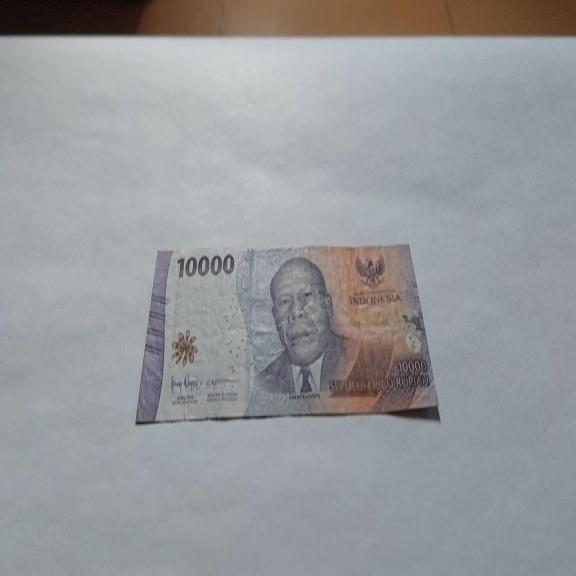Kertas: (135, 242, 440, 426), (176, 252, 235, 279)
